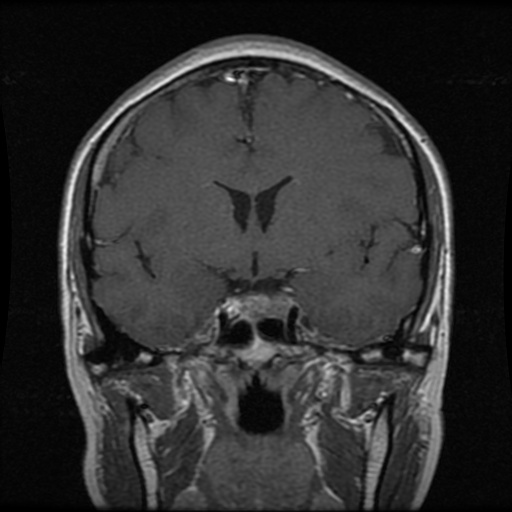pituitary: (219, 292, 292, 322)
